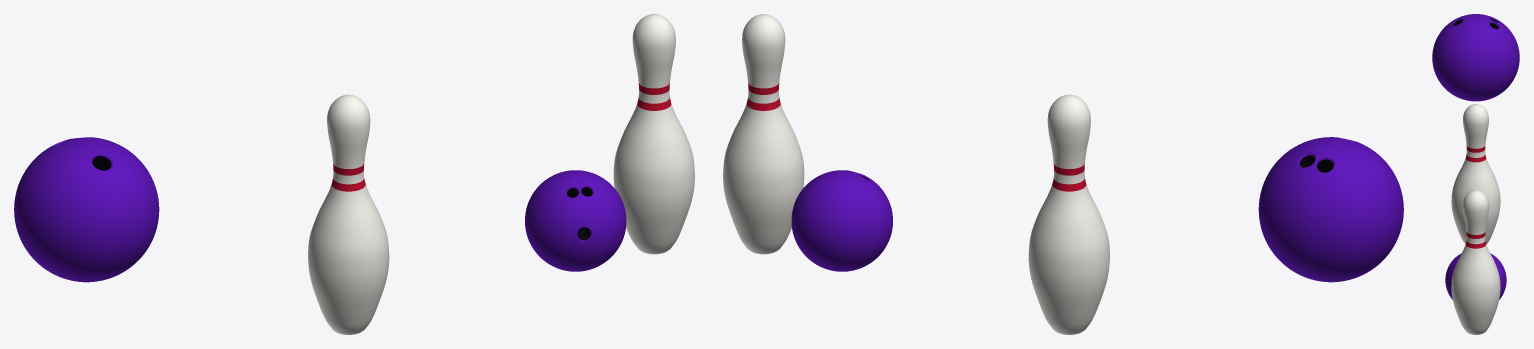
The model's file is bowling.glb.
3 views of the same model, side by side, from view 1: azimuth 30°, elevation 25°; view 2: azimuth 150°, elevation 25°; view 3: azimuth 270°, elevation 25° (orthographic). The views are drawn at different scales.
Parts seen in each view (by area): view 1: ball, pin, icon_pin, icon_ball; view 2: ball, pin, icon_pin, icon_ball; view 3: ball, icon_pin, pin, icon_ball.
Part boxes in pixels (x1,y1,x2,y2): ball: [14, 137, 159, 282]; pin: [308, 94, 389, 334]; icon_pin: [613, 14, 694, 254]; icon_ball: [525, 170, 626, 271]; ball: [1258, 137, 1403, 282]; pin: [1028, 94, 1109, 334]; icon_pin: [723, 14, 804, 254]; icon_ball: [791, 170, 892, 271]; ball: [1432, 14, 1519, 101]; icon_pin: [1451, 190, 1500, 334]; pin: [1451, 104, 1500, 244]; icon_ball: [1445, 253, 1506, 299].
Size of what is drawn, in the model's own units: 1.14 by 0.408 by 0.216.
